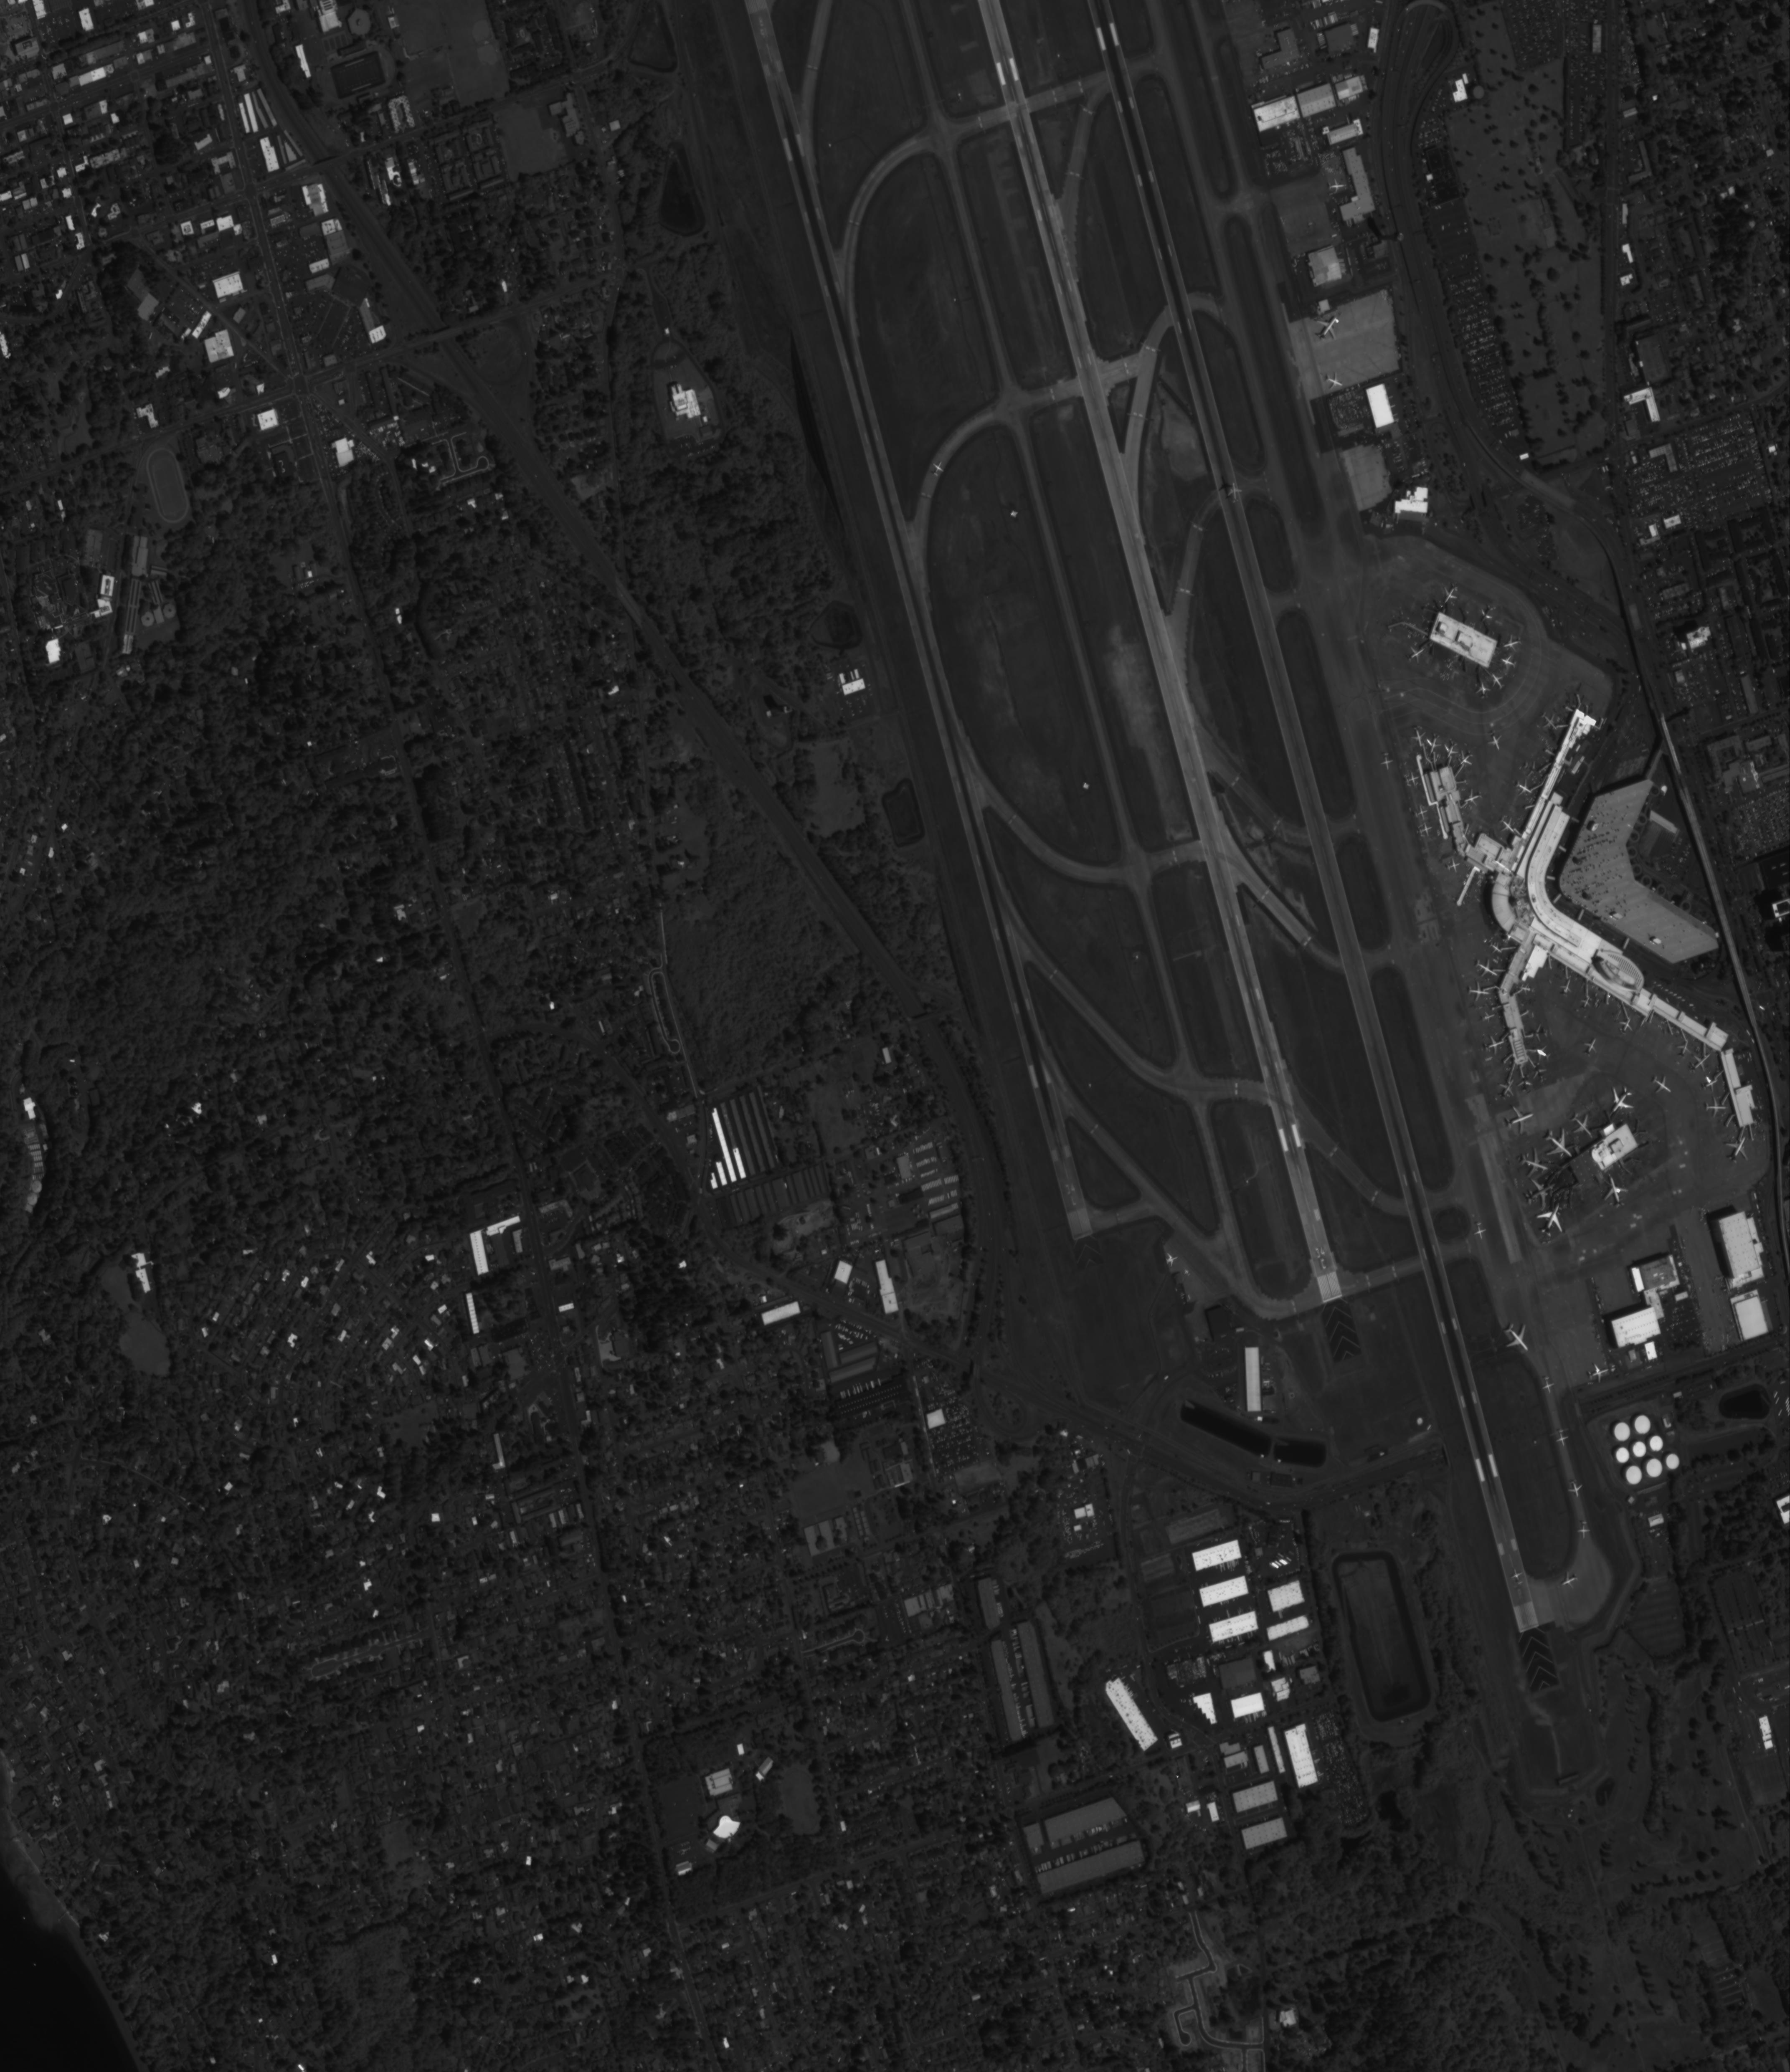plane: (1536, 1122, 1582, 1168), (1531, 1196, 1572, 1244), (1519, 1172, 1563, 1214), (1496, 1318, 1540, 1360), (1596, 1170, 1635, 1214), (1499, 1099, 1540, 1138), (1601, 1080, 1642, 1119), (1515, 1143, 1554, 1182), (1564, 1106, 1603, 1145), (1309, 308, 1346, 345), (1721, 1131, 1753, 1168), (1471, 955, 1501, 985), (1647, 1071, 1677, 1099), (1536, 708, 1563, 736), (1584, 1360, 1612, 1387), (1496, 812, 1522, 840), (1690, 1048, 1714, 1075), (1557, 1566, 1582, 1593), (1496, 1077, 1520, 1103), (1579, 1034, 1603, 1061), (1480, 1032, 1506, 1057), (1466, 980, 1492, 1004), (1522, 758, 1547, 784), (1321, 370, 1346, 395), (1704, 1096, 1728, 1121), (1453, 747, 1478, 772), (1439, 580, 1462, 606), (1513, 775, 1536, 802), (1531, 1043, 1556, 1066), (1406, 643, 1429, 666), (1485, 729, 1508, 752), (1439, 738, 1462, 761), (1476, 603, 1498, 627), (1700, 1071, 1721, 1096), (1424, 731, 1445, 756), (1498, 652, 1520, 673), (1616, 1015, 1637, 1038), (1529, 1062, 1550, 1085), (1501, 633, 1524, 654), (1487, 670, 1508, 692), (1409, 724, 1429, 749), (1161, 1249, 1182, 1270), (1564, 1478, 1586, 1499), (1462, 788, 1483, 809), (1226, 481, 1244, 506), (1538, 1374, 1557, 1395), (1510, 1566, 1527, 1589), (1675, 1040, 1695, 1059), (928, 460, 948, 479), (1577, 992, 1594, 1013), (1471, 1221, 1489, 1242), (1475, 680, 1492, 699), (1557, 978, 1575, 997), (1531, 1024, 1549, 1043), (1554, 1429, 1572, 1448), (1378, 752, 1395, 772), (1487, 939, 1505, 958), (1413, 803, 1431, 821), (1327, 178, 1346, 194), (1446, 855, 1462, 874), (1577, 1521, 1591, 1542), (1517, 1077, 1533, 1094), (1480, 1010, 1498, 1025), (1406, 770, 1422, 788), (1418, 821, 1434, 839), (1519, 981, 1533, 997), (921, 492, 932, 502)
